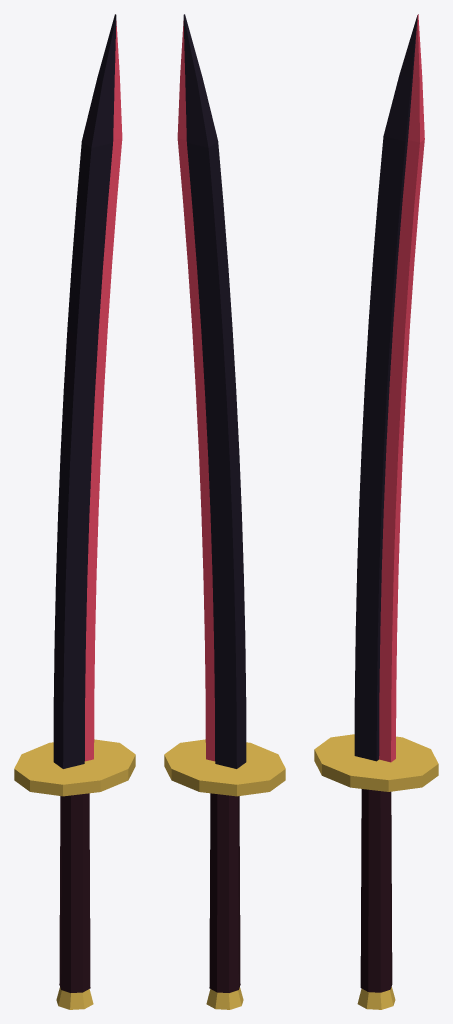
Rendered from Sword_EclipseKatana.fbx.
The picture shows the model from 3 angles, left to right: view 1: azimuth 30°, elevation 25°; view 2: azimuth 150°, elevation 25°; view 3: azimuth 330°, elevation 25°; orthographic projection. The views are drawn at different scales.
Parts seen in each view (by area): view 1: Sword_EclipseKatana; view 2: Sword_EclipseKatana; view 3: Sword_EclipseKatana.
Boxes of the visible parts, <box> form: Sword_EclipseKatana: <box>14,14,135,1009</box>; Sword_EclipseKatana: <box>164,14,285,1009</box>; Sword_EclipseKatana: <box>314,14,438,1009</box>.
Size of the model in its own units: 0.5706 by 5.04 by 0.48.
1 material, 1 textured.
